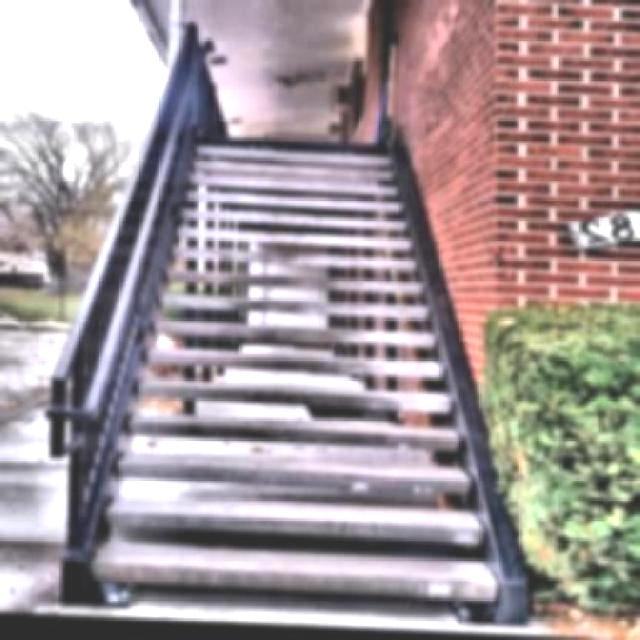stair: (19, 64, 528, 636)
